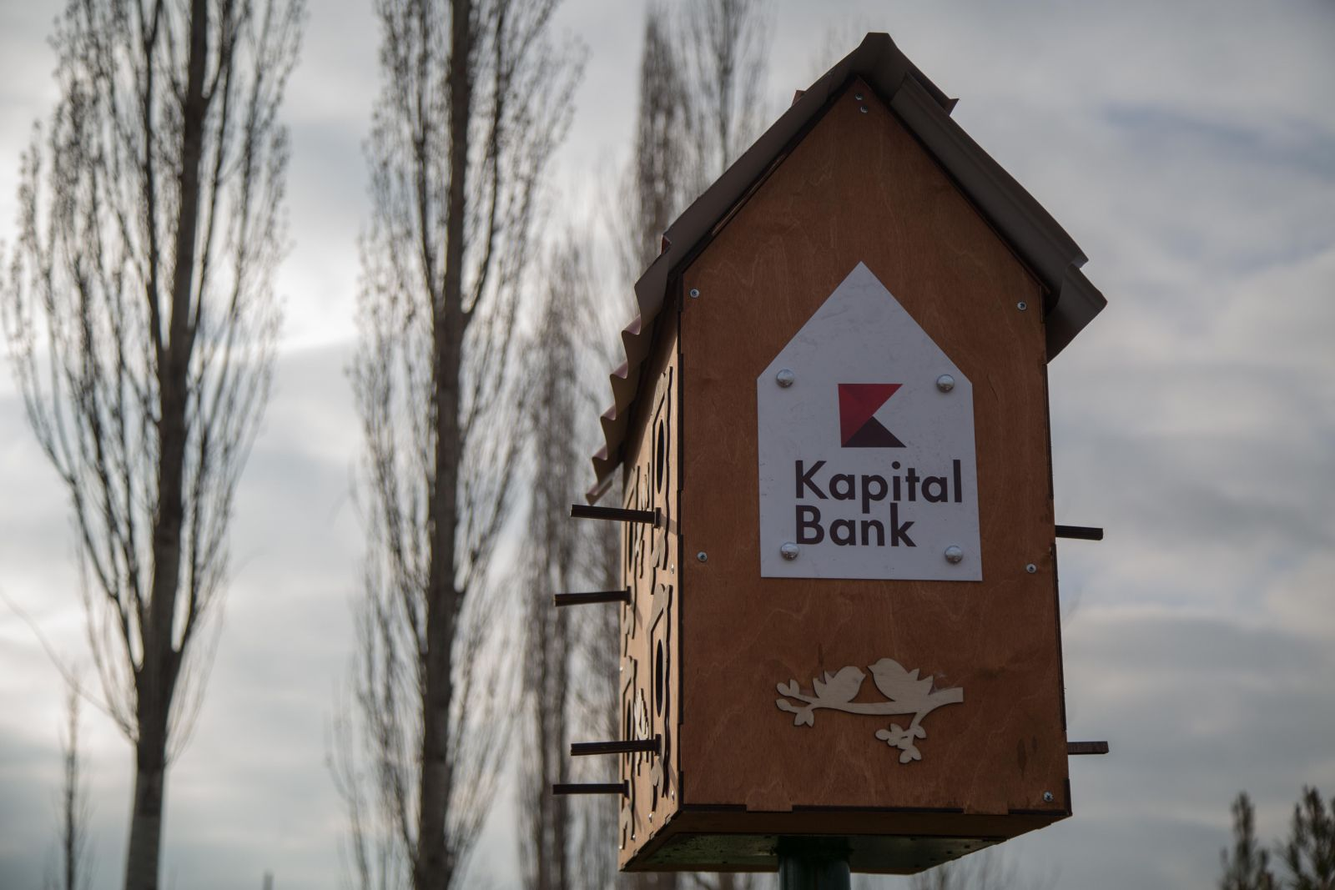Kapital Bank: (838, 382, 911, 448)
